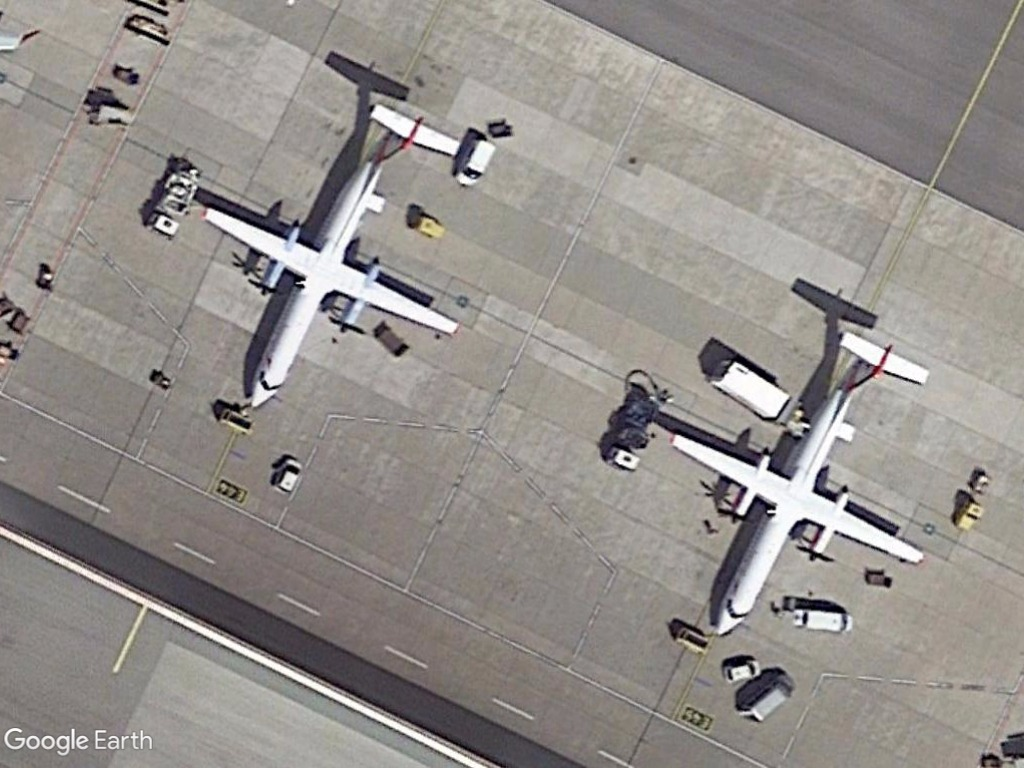car: (718, 652, 769, 686)
propeller: (191, 97, 468, 415), (663, 326, 933, 642)
van: (738, 672, 798, 727), (452, 135, 500, 188), (273, 453, 305, 497)
